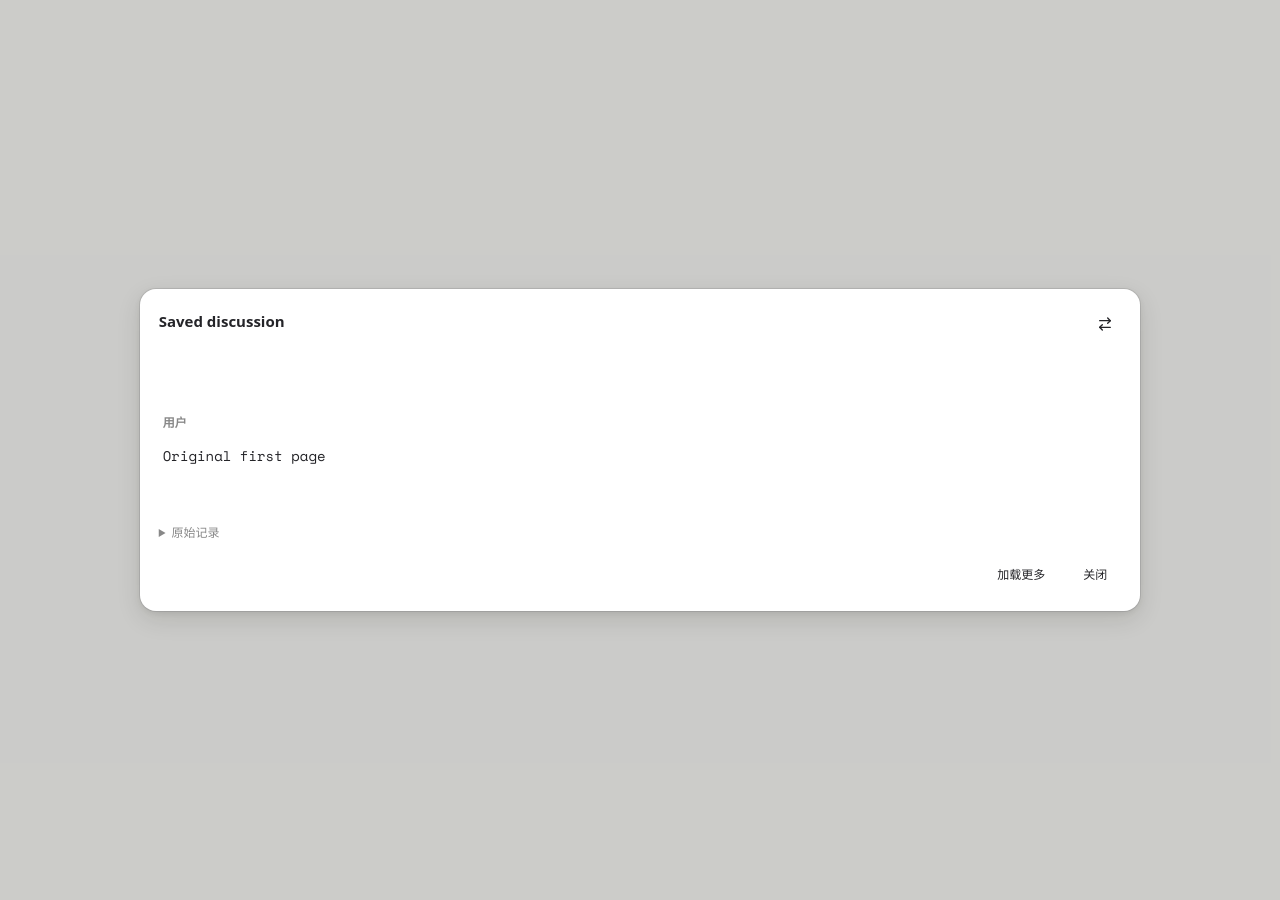
it: keeps the opened revision on pagination and reports a source change without mixing pages
Expected: the text "Original first page" is shown, [163,446,326,466]
Click the button "加载更多". click: click(1021, 575)
box: [983,558,1059,592]
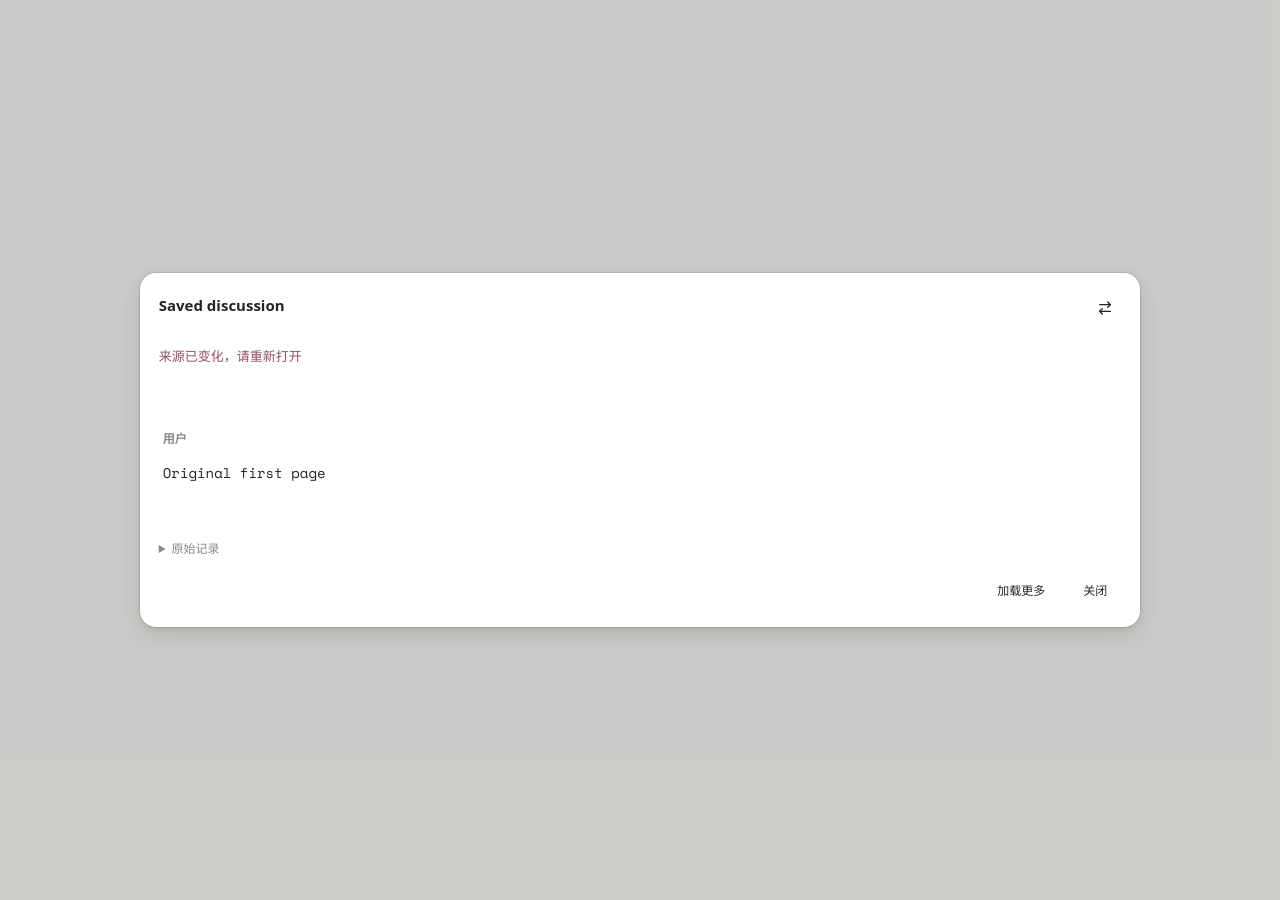
Expected: the text "Original first page" is shown, [163,462,326,482]
Expected: the message reads "来源已变化，请重新打开", [159,347,302,365]
